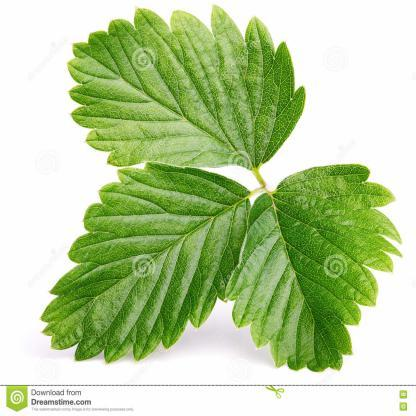Strawberry leaf: (35, 157, 261, 370), (59, 1, 309, 169), (232, 169, 404, 375)
